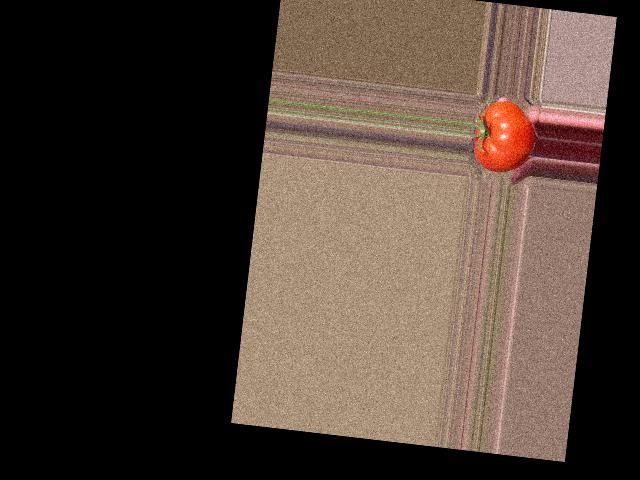tomato: (471, 98, 539, 174)
